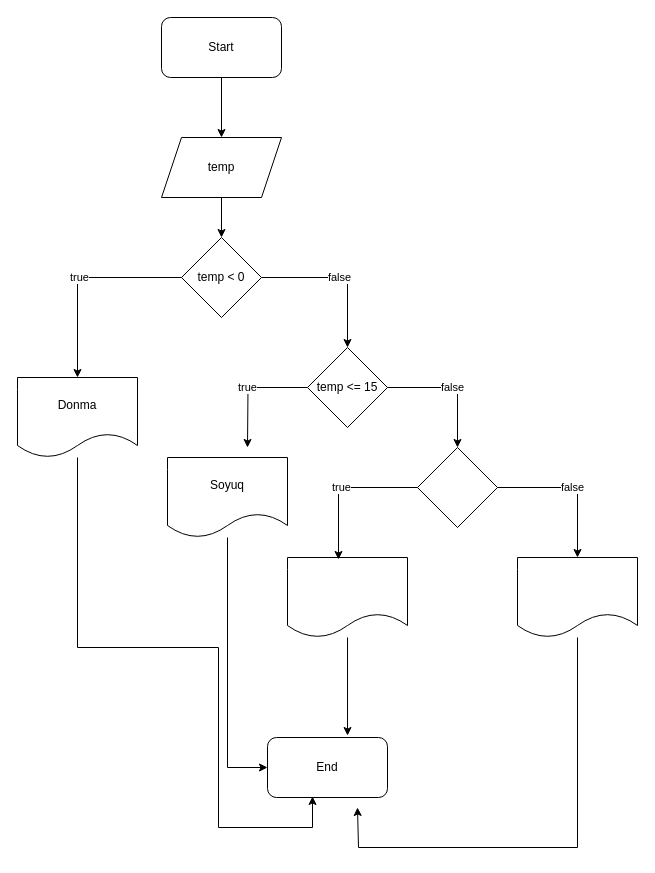
Some shapes in this 655 by 873 pixel diagram are drawn without their labels. The centre of each missing label's shape, as x and y in pixels:
"Isti" belongs at (577,597).
"Mulayim" belongs at (347,597).
"temp <= 30" belongs at (457,487).
